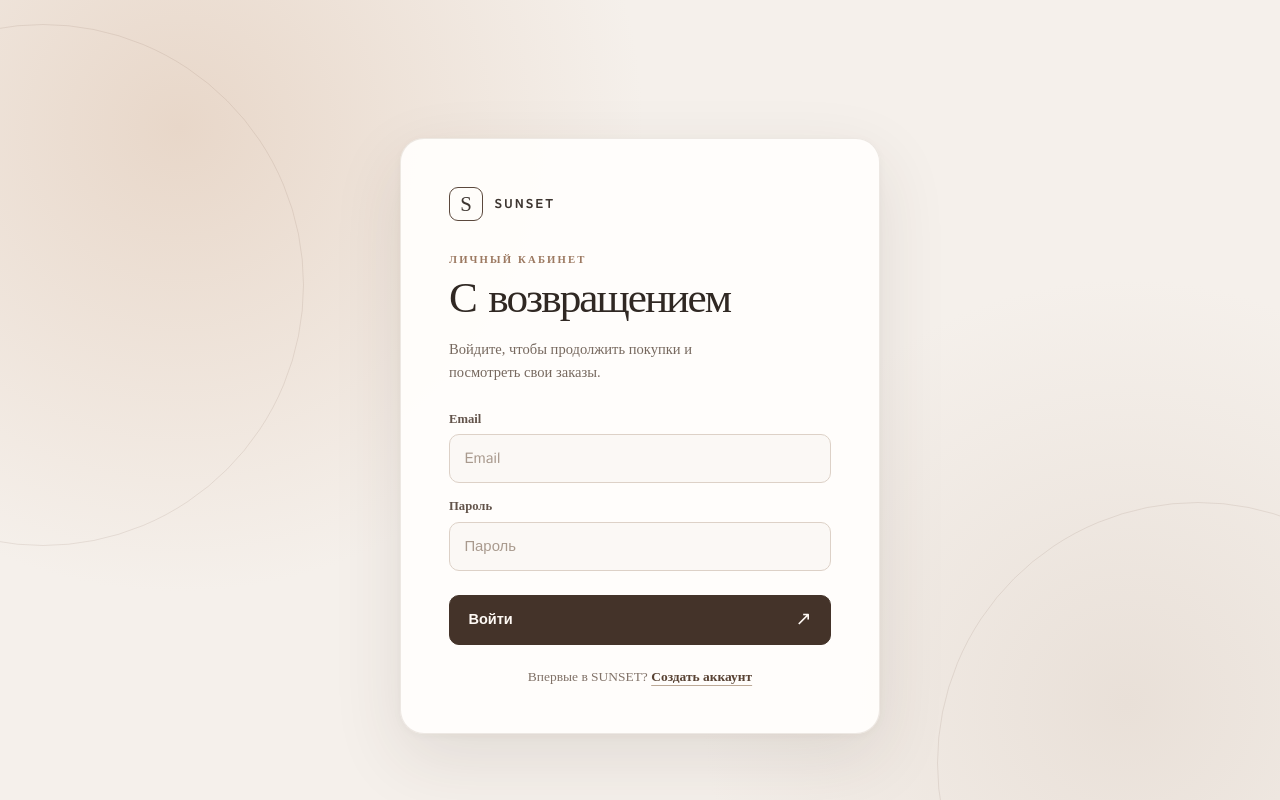
Scenario: customer login does not redirect staff credentials to the admin site
Step 1. Type "staff@example.test" into the field with placeholder "Email" → (640, 459), box [449,434,831,483]
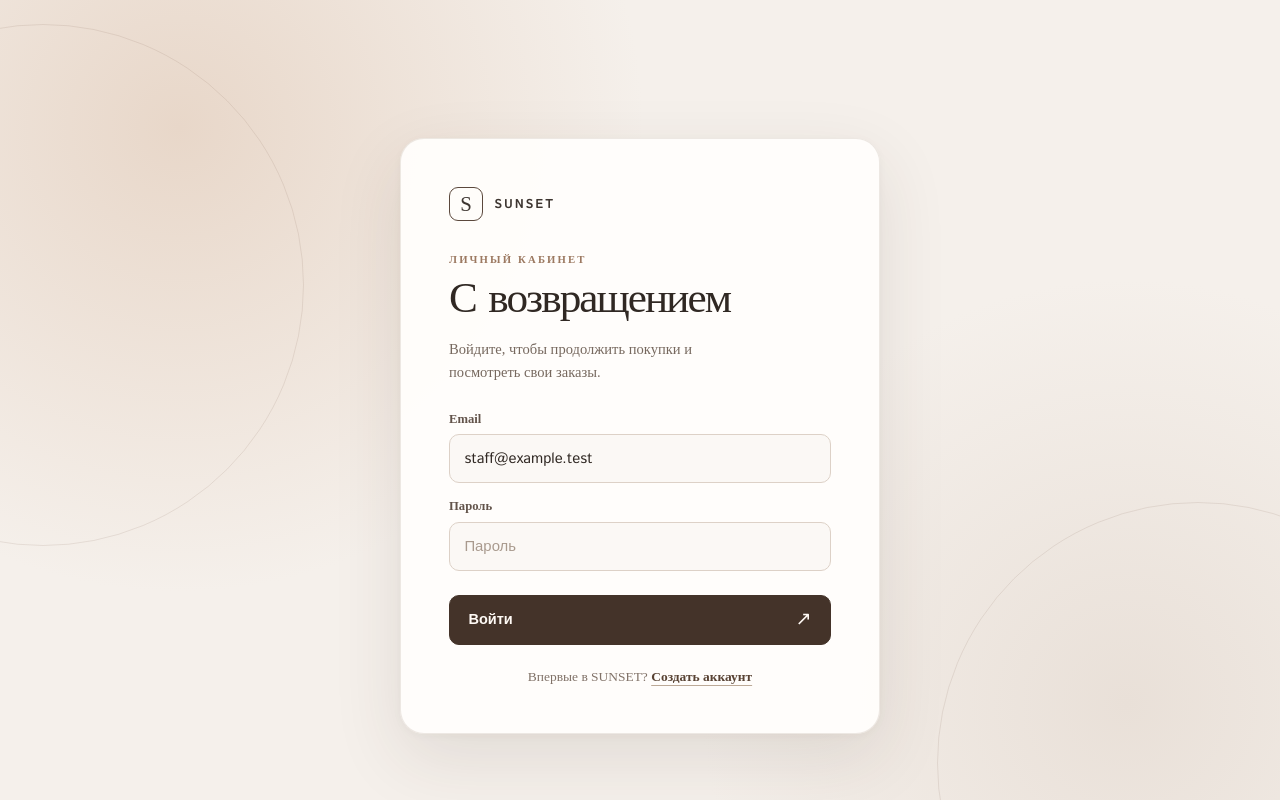
Step 2. Type "password" into the password field with placeholder "Пароль" → (640, 546), box [449,522,831,571]
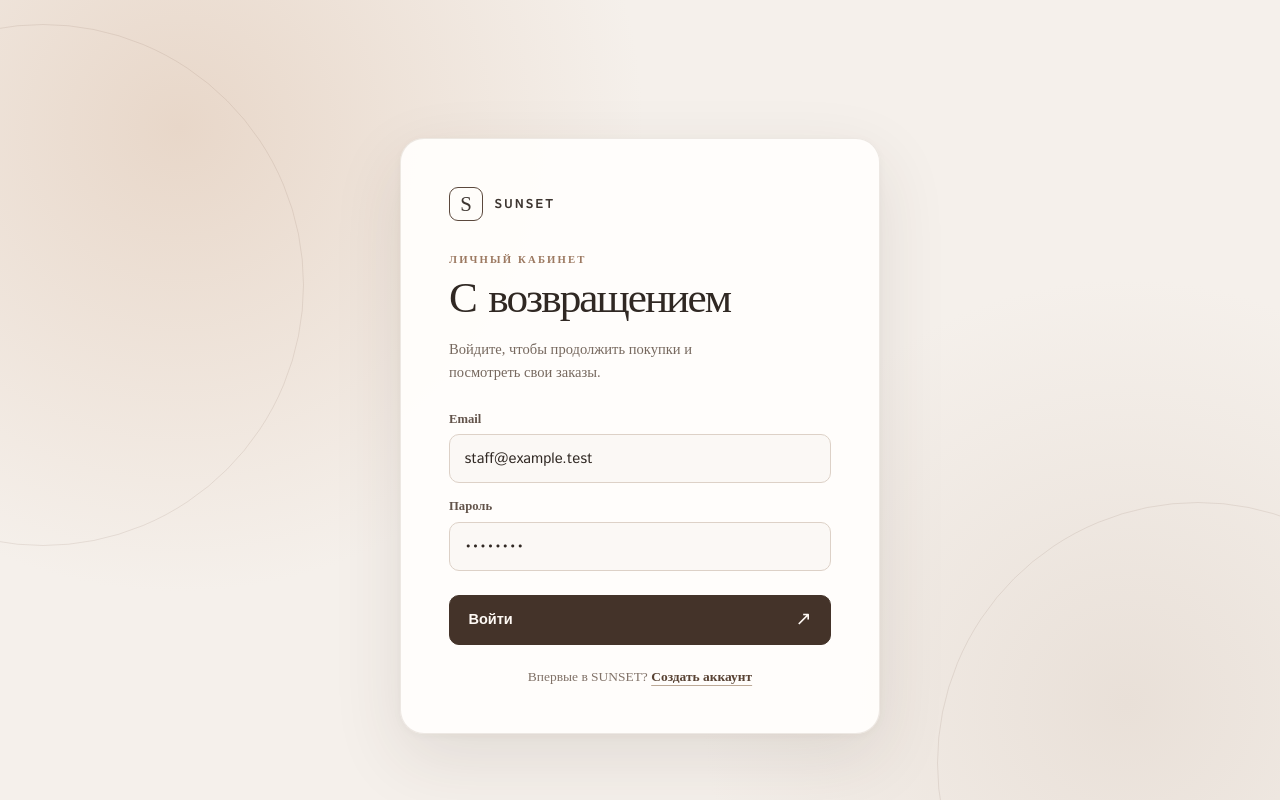
Step 3. Click the button "Войти ↗" → click(491, 620), box [449,595,831,645]
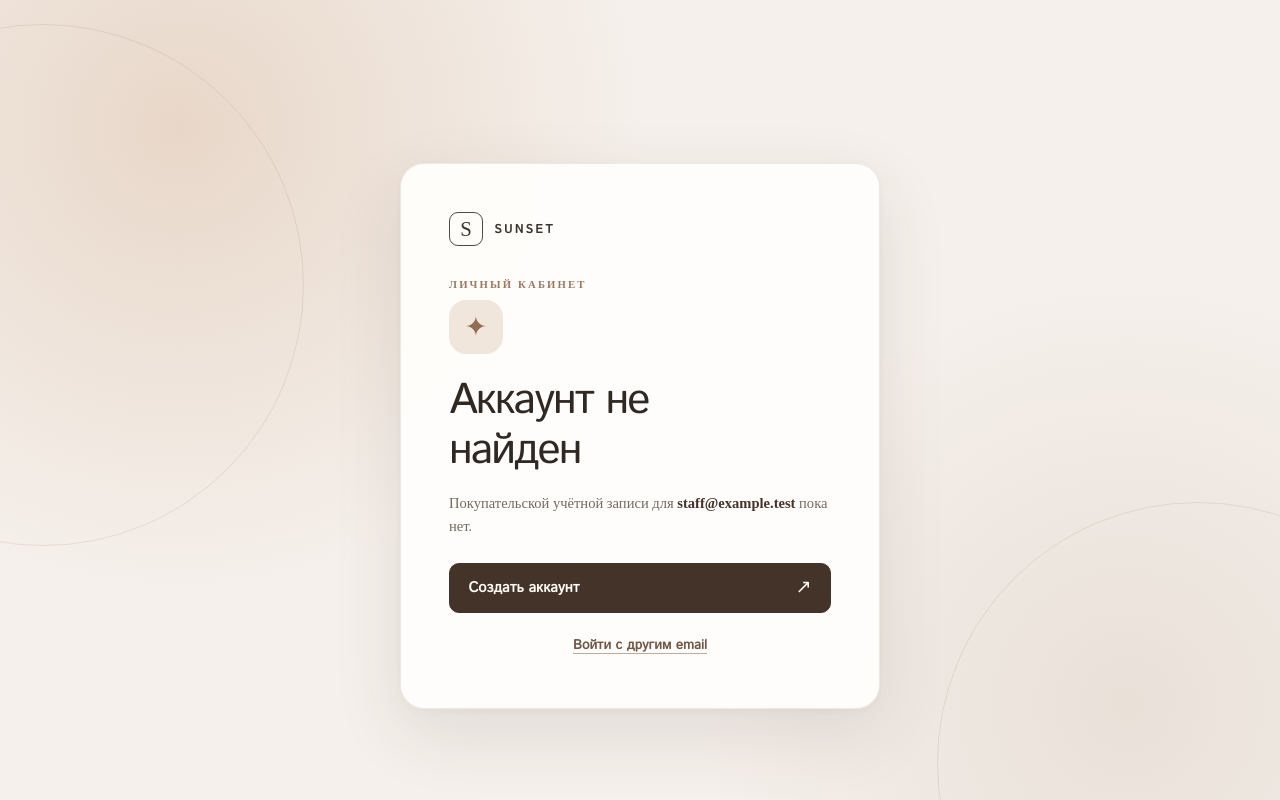
Check: the heading "Аккаунт не найден" is shown, box [449,370,648,482]
